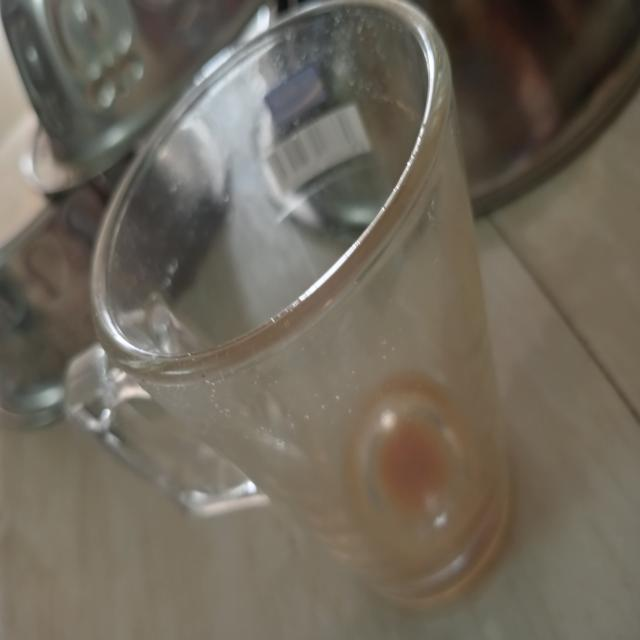glass-VX4N: (60, 0, 517, 612)
